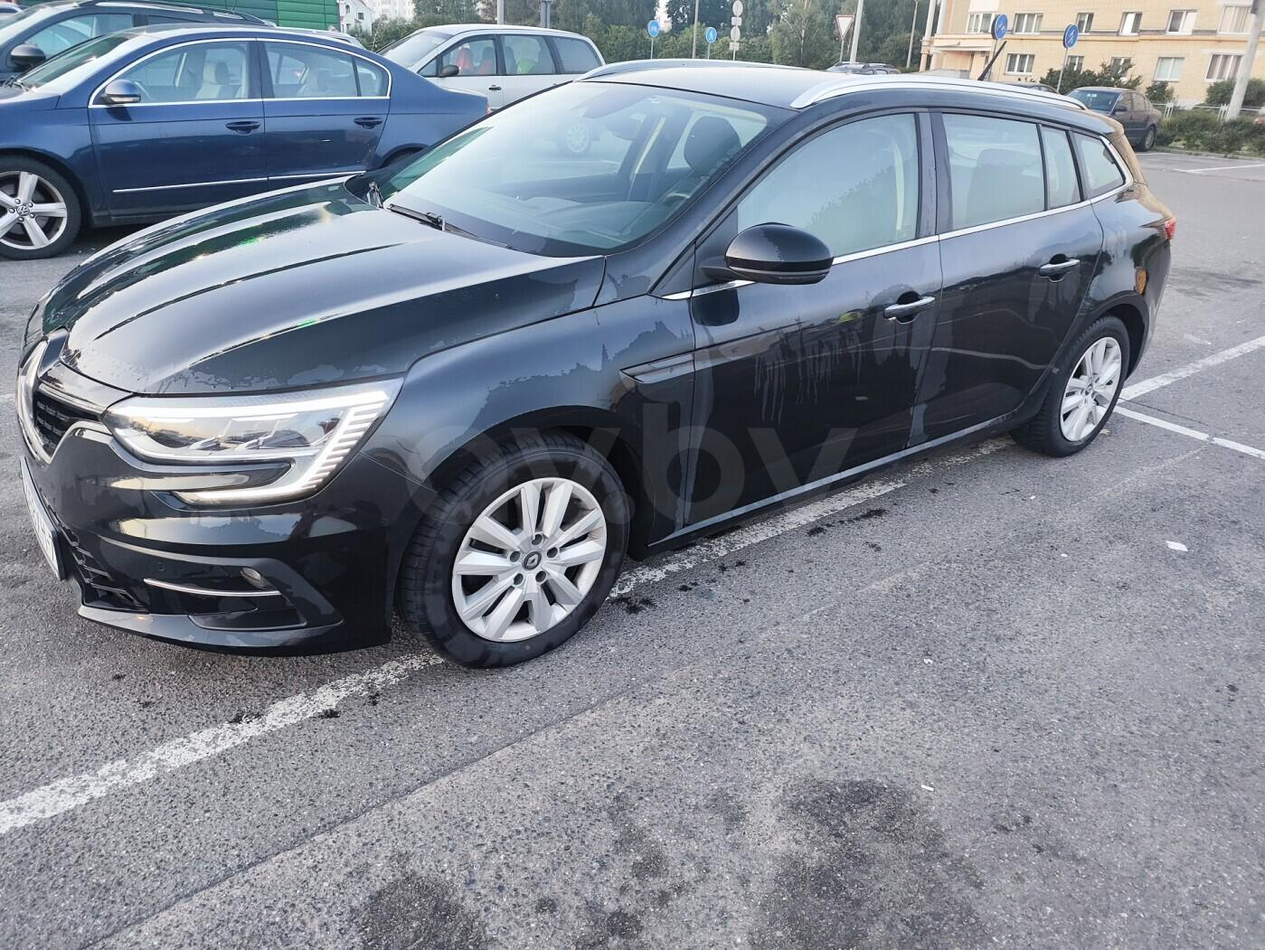Megane_2020: (14, 53, 1173, 664)
